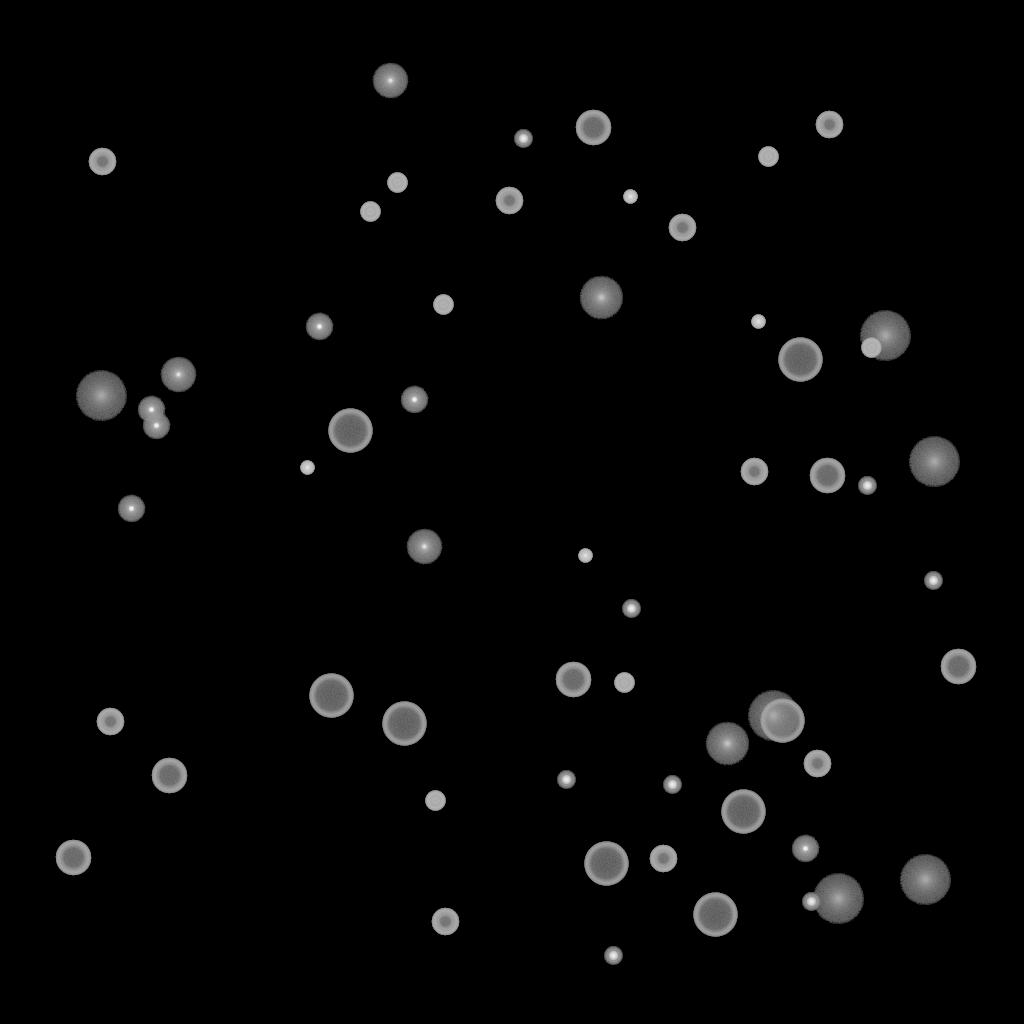depth:-10: (142, 412, 170, 440), (305, 313, 333, 341), (137, 396, 165, 424), (117, 495, 145, 523), (791, 835, 819, 863), (400, 386, 428, 414)
depth:-20: (622, 600, 640, 618), (663, 776, 681, 794), (604, 947, 622, 965), (557, 771, 575, 789), (802, 893, 820, 911), (514, 130, 532, 148), (858, 477, 876, 495), (924, 572, 942, 590)
depth:-30: (578, 549, 592, 563), (300, 461, 314, 475), (751, 315, 765, 329), (623, 190, 637, 204)
depth:-40: (758, 147, 778, 167), (433, 295, 453, 315), (614, 673, 634, 693), (861, 338, 881, 358), (387, 173, 407, 193), (360, 202, 380, 222), (425, 791, 445, 811)
depth:-50: (96, 708, 124, 736), (431, 908, 459, 936), (495, 187, 523, 215), (88, 148, 116, 176), (668, 214, 696, 242), (740, 458, 768, 486), (815, 111, 843, 139), (649, 845, 677, 873), (803, 750, 831, 778)
depth:-60: (55, 840, 91, 876), (151, 758, 187, 794), (575, 110, 611, 146), (940, 649, 976, 685), (809, 458, 845, 494), (555, 662, 591, 698)
depth:-70: (328, 409, 372, 453), (382, 702, 426, 746), (760, 699, 804, 743), (721, 790, 765, 834), (584, 842, 628, 886), (778, 338, 822, 382), (693, 893, 737, 937), (309, 674, 353, 718)
depth:0: (372, 63, 408, 99), (160, 357, 196, 393), (406, 529, 442, 565)
depth:10: (705, 722, 749, 766), (579, 276, 623, 320)
depth:20: (812, 874, 864, 924), (75, 371, 127, 421), (899, 855, 951, 905), (859, 311, 911, 361), (908, 437, 960, 487), (747, 691, 799, 741)
